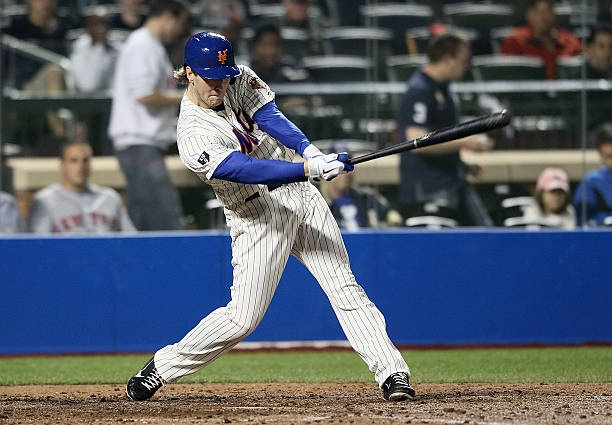bita: (335, 112, 514, 178)
